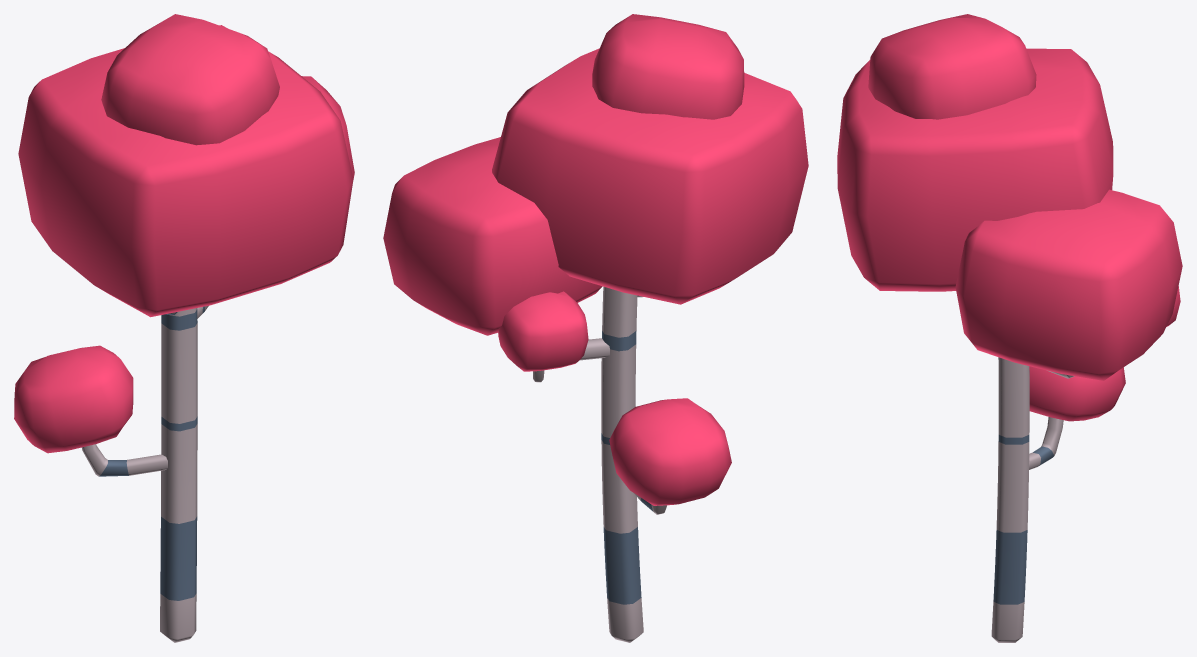
The model's file is Cube_Tree.fbx.
The picture shows the model from 3 angles, left to right: view 1: azimuth 30°, elevation 25°; view 2: azimuth 150°, elevation 25°; view 3: azimuth 270°, elevation 25°; orthographic projection. The views are drawn at different scales.
Parts seen in each view (by area): view 1: Cube_Tree; view 2: Cube_Tree; view 3: Cube_Tree.
Part boxes in pixels (x1,y1,x2,y2): Cube_Tree: (14,14,354,642); Cube_Tree: (383,14,808,642); Cube_Tree: (837,14,1182,642).
Bounding box in the file's own units: 837 × 1491 × 769.
